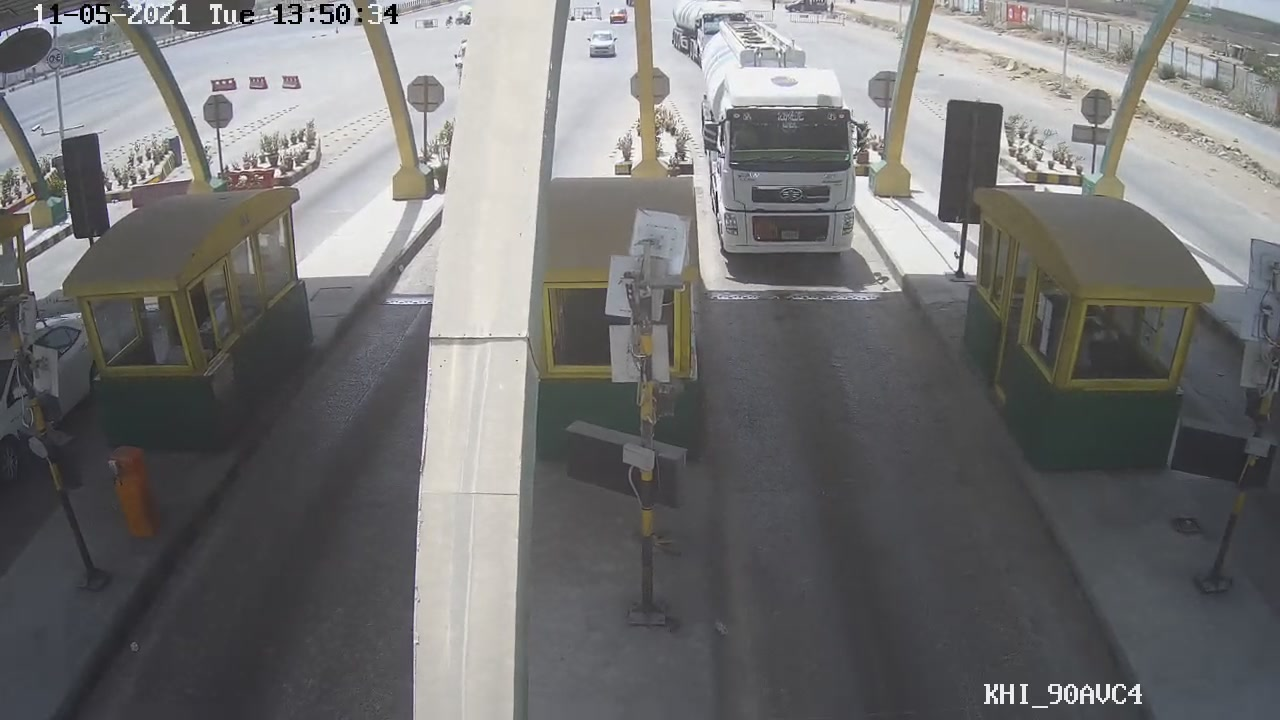F6: (700, 31, 870, 269)
